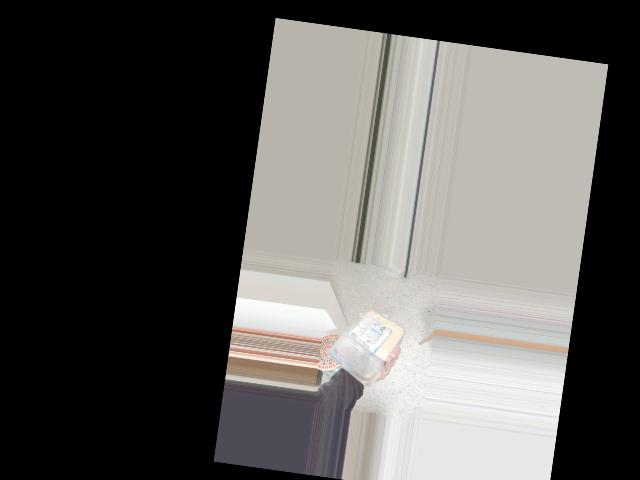cheese: (322, 302, 403, 372)
